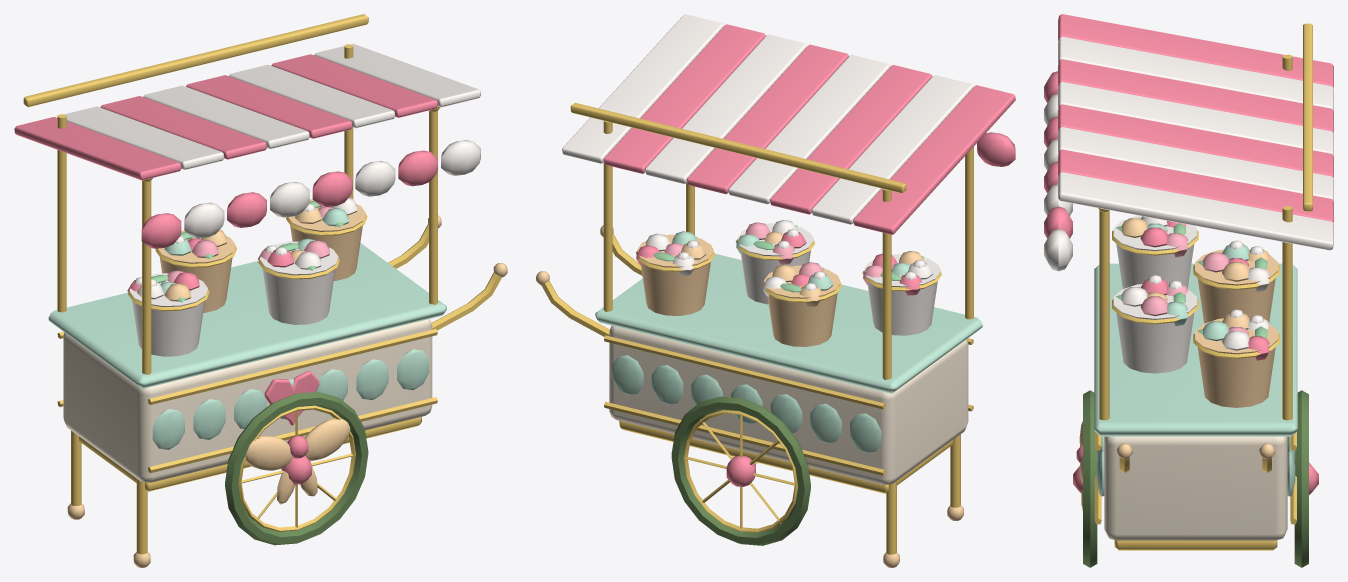
File: flower_cart.glb
3 renders of one model, left to right at view 1: azimuth 30°, elevation 25°; view 2: azimuth 150°, elevation 25°; view 3: azimuth 270°, elevation 25°, orthographic. The views are drawn at different scales.
Parts seen in each view (by area): view 1: flower_cart; view 2: flower_cart; view 3: flower_cart.
Part boxes in pixels (box(x1,y1,x2,y2)): flower_cart: box(14, 14, 507, 567); flower_cart: box(536, 14, 1015, 567); flower_cart: box(1044, 14, 1333, 567).
Bounding box in the file's own units: 2.44 × 2.49 × 1.42.
